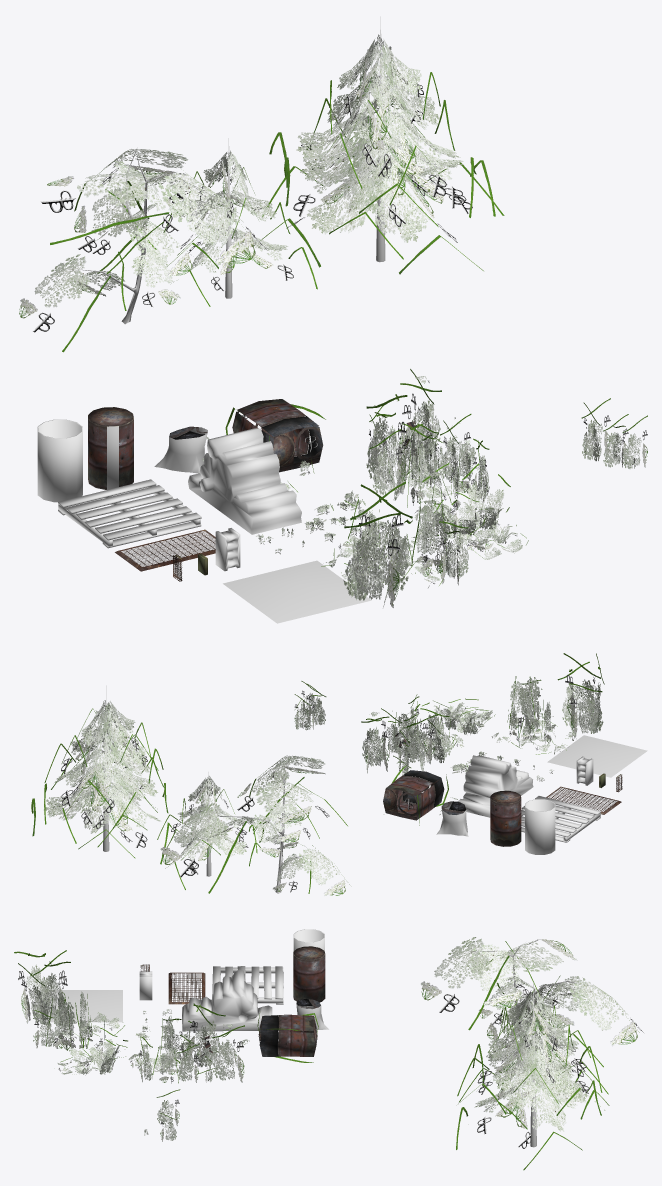
The model's file is dim_arboretum.dae.
The picture shows the model from 3 angles, top to bottom: view 1: azimuth 30°, elevation 25°; view 2: azimuth 150°, elevation 25°; view 3: azimuth 270°, elevation 25°; orthographic projection. The views are drawn at different scales.
Parts seen in each view (by area): view 1: AbiesBalsamica, FagusAmericana, Woodpile, Pallette, AbiesBalsamicaSmall, GroundCover, TyphaLatifolia, HayBale, BarrelOpen, Barrel, ClethraAlnifolia, Grate (+7 smaller); view 2: AbiesBalsamica, FagusAmericana, AbiesBalsamicaSmall, Woodpile, HayBale, GroundCover, TyphaLatifolia, Barrel, BarrelOpen, ClethraAlnifolia, Pallette, GrassTall (+8 smaller); view 3: AbiesBalsamica, FagusAmericana, Woodpile, HayBale, TyphaLatifolia, GroundCover, Barrel, Pallette, ClethraAlnifolia, Grate, AbiesBalsamicaSmall, GrassTall (+10 smaller).
Boxes of the visible parts, bbox=[...] form: AbiesBalsamica: bbox=[260, 16, 504, 274]; FagusAmericana: bbox=[19, 149, 267, 352]; Woodpile: bbox=[188, 428, 301, 534]; Pallette: bbox=[58, 479, 201, 548]; AbiesBalsamicaSmall: bbox=[163, 138, 317, 306]; GroundCover: bbox=[223, 560, 371, 623]; TyphaLatifolia: bbox=[344, 481, 412, 607]; HayBale: bbox=[225, 399, 325, 472]; BarrelOpen: bbox=[37, 419, 82, 502]; Barrel: bbox=[88, 407, 133, 489]; ClethraAlnifolia: bbox=[366, 394, 433, 500]; Grate: bbox=[115, 529, 215, 571]; AbiesBalsamica: bbox=[31, 685, 176, 864]; FagusAmericana: bbox=[160, 755, 349, 895]; AbiesBalsamicaSmall: bbox=[157, 772, 262, 889]; Woodpile: bbox=[458, 755, 533, 817]; HayBale: bbox=[383, 765, 448, 825]; GroundCover: bbox=[547, 735, 647, 777]; TyphaLatifolia: bbox=[557, 653, 604, 738]; Barrel: bbox=[490, 790, 521, 846]; BarrelOpen: bbox=[525, 799, 555, 854]; ClethraAlnifolia: bbox=[403, 701, 451, 770]; Pallette: bbox=[521, 796, 600, 842]; GrassTall: bbox=[509, 676, 539, 728]; AbiesBalsamica: bbox=[456, 982, 609, 1170]; FagusAmericana: bbox=[421, 937, 644, 1046]; Woodpile: bbox=[182, 969, 272, 1031]; HayBale: bbox=[257, 1013, 318, 1062]; TyphaLatifolia: bbox=[14, 950, 70, 1024]; GroundCover: bbox=[46, 990, 122, 1022]; Barrel: bbox=[293, 946, 325, 1002]; Pallette: bbox=[212, 966, 283, 1004]; ClethraAlnifolia: bbox=[163, 1003, 225, 1067]; Grate: bbox=[168, 972, 205, 1004]; AbiesBalsamicaSmall: bbox=[492, 993, 592, 1103]; GrassTall: bbox=[46, 990, 81, 1050].
Bounding box in the file's own units: 24.51 × 31.08 × 9.62.
